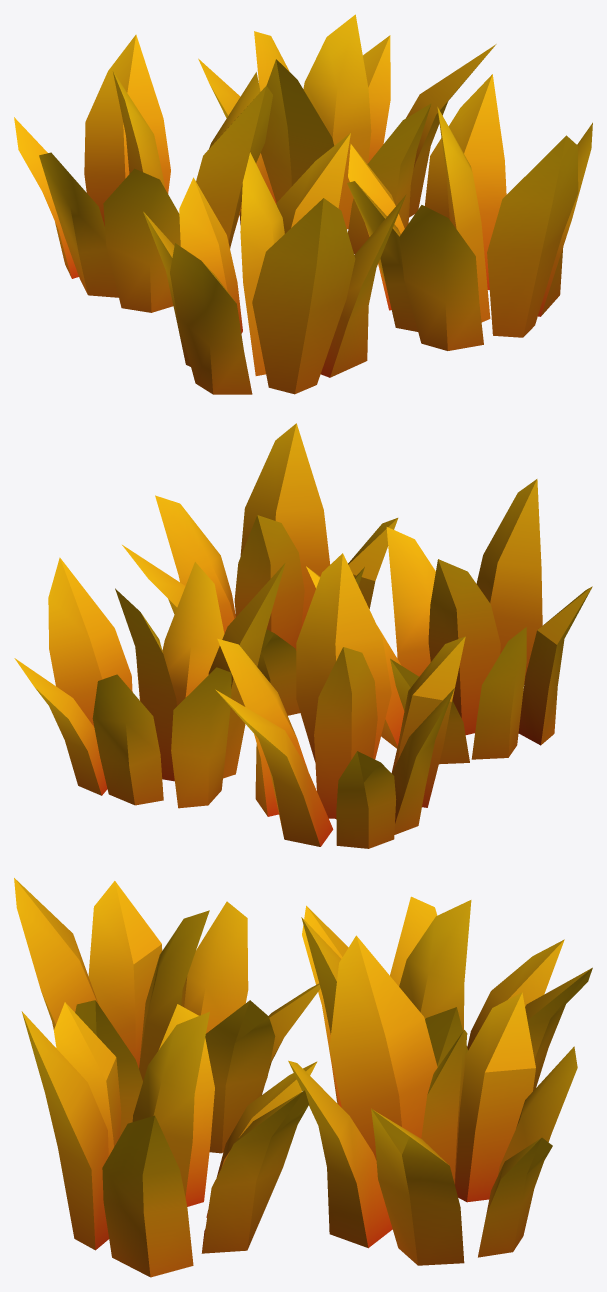
Rendered from grass_yellow_group2.glb.
The picture shows the model from 3 angles, top to bottom: view 1: azimuth 30°, elevation 25°; view 2: azimuth 150°, elevation 25°; view 3: azimuth 270°, elevation 25°; orthographic projection. The views are drawn at different scales.
Visible parts, largest first — view 1: grass_yellow_group2; view 2: grass_yellow_group2; view 3: grass_yellow_group2.
Boxes of the visible parts, x1=… form: grass_yellow_group2: x1=14, y1=14, x2=592, y2=394; grass_yellow_group2: x1=14, y1=423, x2=592, y2=848; grass_yellow_group2: x1=14, y1=878, x2=592, y2=1277.
Size of the model in its own units: 1.1 by 0.5149 by 1.13.
Materials: 1 (1 with a texture image).
